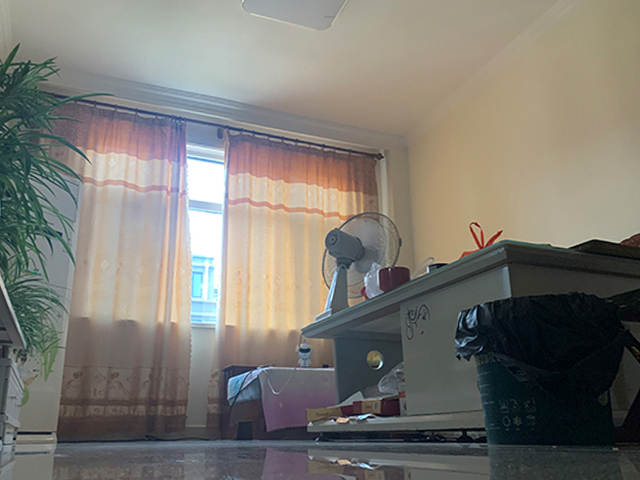curtain: (206, 128, 379, 438), (37, 99, 190, 438)
sofa: (221, 364, 337, 441)
table: (300, 239, 640, 444)
trashcan: (450, 292, 626, 447)
wire: (227, 369, 249, 438)
